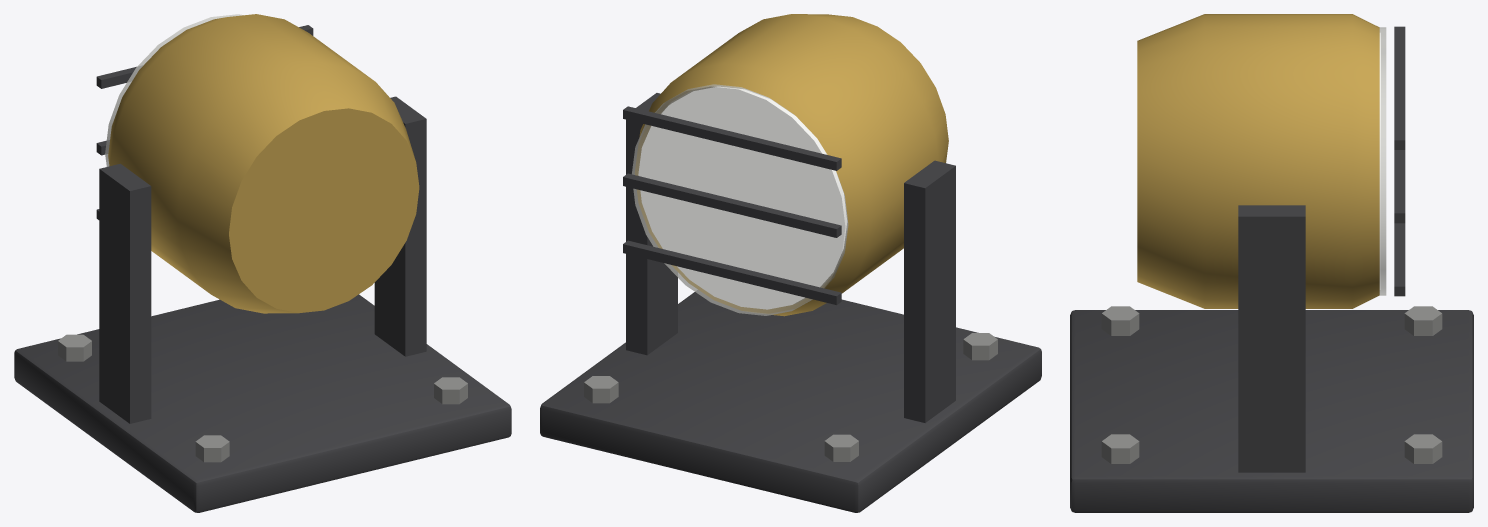
Rendered from light.glb.
3 renders of one model, left to right at view 1: azimuth 30°, elevation 25°; view 2: azimuth 150°, elevation 25°; view 3: azimuth 270°, elevation 25°, orthographic. The views are drawn at different scales.
Parts seen in each view (by area): view 1: Part; view 2: Part, Glow; view 3: Part.
Part boxes in pixels (box(x1,y1,x2,y2)): Part: box(14, 14, 511, 512); Part: box(540, 14, 1041, 512); Glow: box(638, 87, 846, 309); Part: box(1070, 14, 1473, 512).
Bounding box in the file's own units: 0.3 × 0.33 × 0.3.
